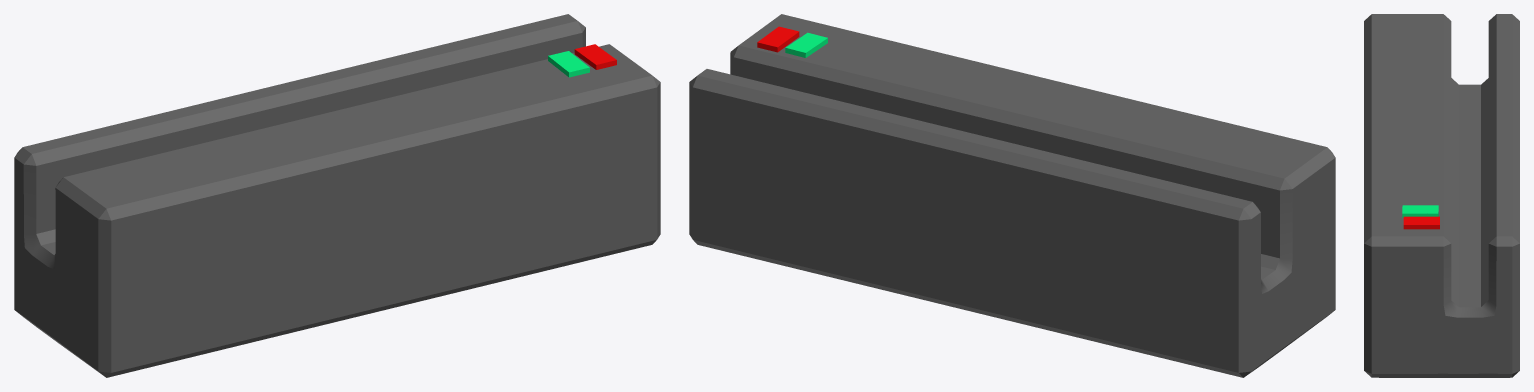
The model's file is cardmayfinal.fbx.
3 views of the same model, side by side, from view 1: azimuth 30°, elevation 25°; view 2: azimuth 150°, elevation 25°; view 3: azimuth 270°, elevation 25° (orthographic). The views are drawn at different scales.
Visible parts, largest first — view 1: polySurface6, polySurface7, polySurface4; view 2: polySurface6, polySurface7, polySurface4; view 3: polySurface7, polySurface6, polySurface4, polySurface5.
Part boxes in pixels (x1,y1,x2,y2): polySurface6: (14,14,655,377); polySurface7: (27,14,660,371); polySurface4: (548,51,588,77); polySurface6: (694,14,1335,377); polySurface7: (689,14,1310,315); polySurface4: (787,33,827,57); polySurface7: (1364,14,1519,377); polySurface6: (1364,14,1519,315); polySurface4: (1402,205,1438,213); polySurface5: (1403,216,1439,224).
Bounding box in the file's own units: 3.48 × 1.04 × 1.
